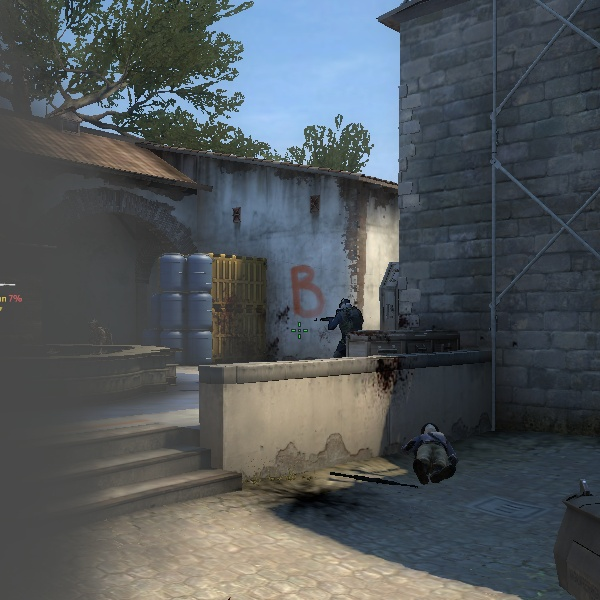ct_body: (407, 422, 458, 485)
